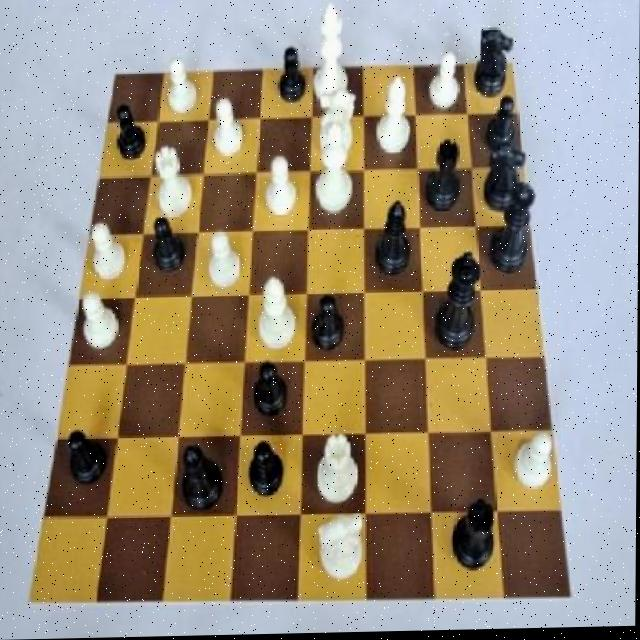bishop: (174, 437, 232, 524), (371, 193, 416, 294)
black-bishop: (427, 241, 482, 361)
black-king: (482, 138, 532, 218), (473, 20, 516, 107)
black-knight: (57, 416, 112, 490), (242, 433, 291, 504), (105, 99, 155, 165), (146, 210, 192, 279), (309, 289, 352, 362), (482, 91, 525, 162), (250, 356, 295, 423), (275, 39, 312, 113)
black-pawn: (488, 174, 541, 290)
black-queen: (439, 488, 502, 585), (422, 134, 467, 223)
black-rook: (370, 71, 417, 160), (258, 261, 300, 357)
white-bishop: (312, 0, 352, 108)
white-king: (312, 504, 370, 592), (313, 81, 361, 163)
white-knight: (78, 284, 124, 362), (511, 423, 557, 500), (84, 212, 128, 285), (206, 93, 247, 170), (260, 151, 302, 225), (423, 47, 468, 116), (164, 52, 204, 122), (206, 226, 243, 298)
white-pawn: (311, 115, 360, 223)
white-queen: (314, 429, 363, 514), (151, 138, 197, 223)
